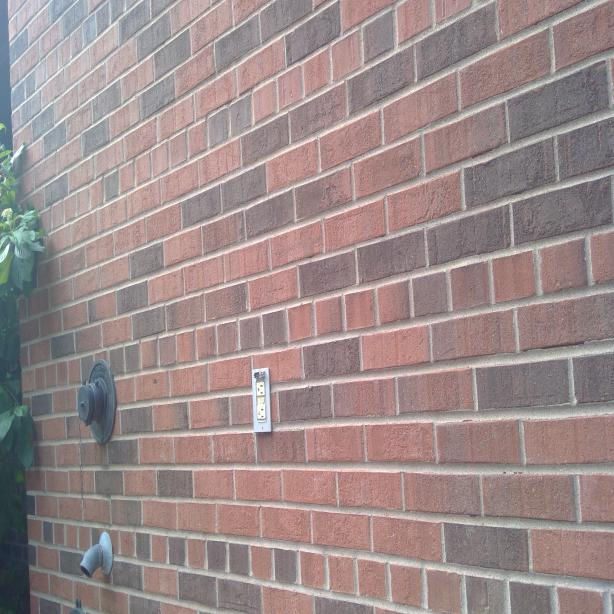typeb: (255, 404, 268, 420), (256, 380, 265, 395)
